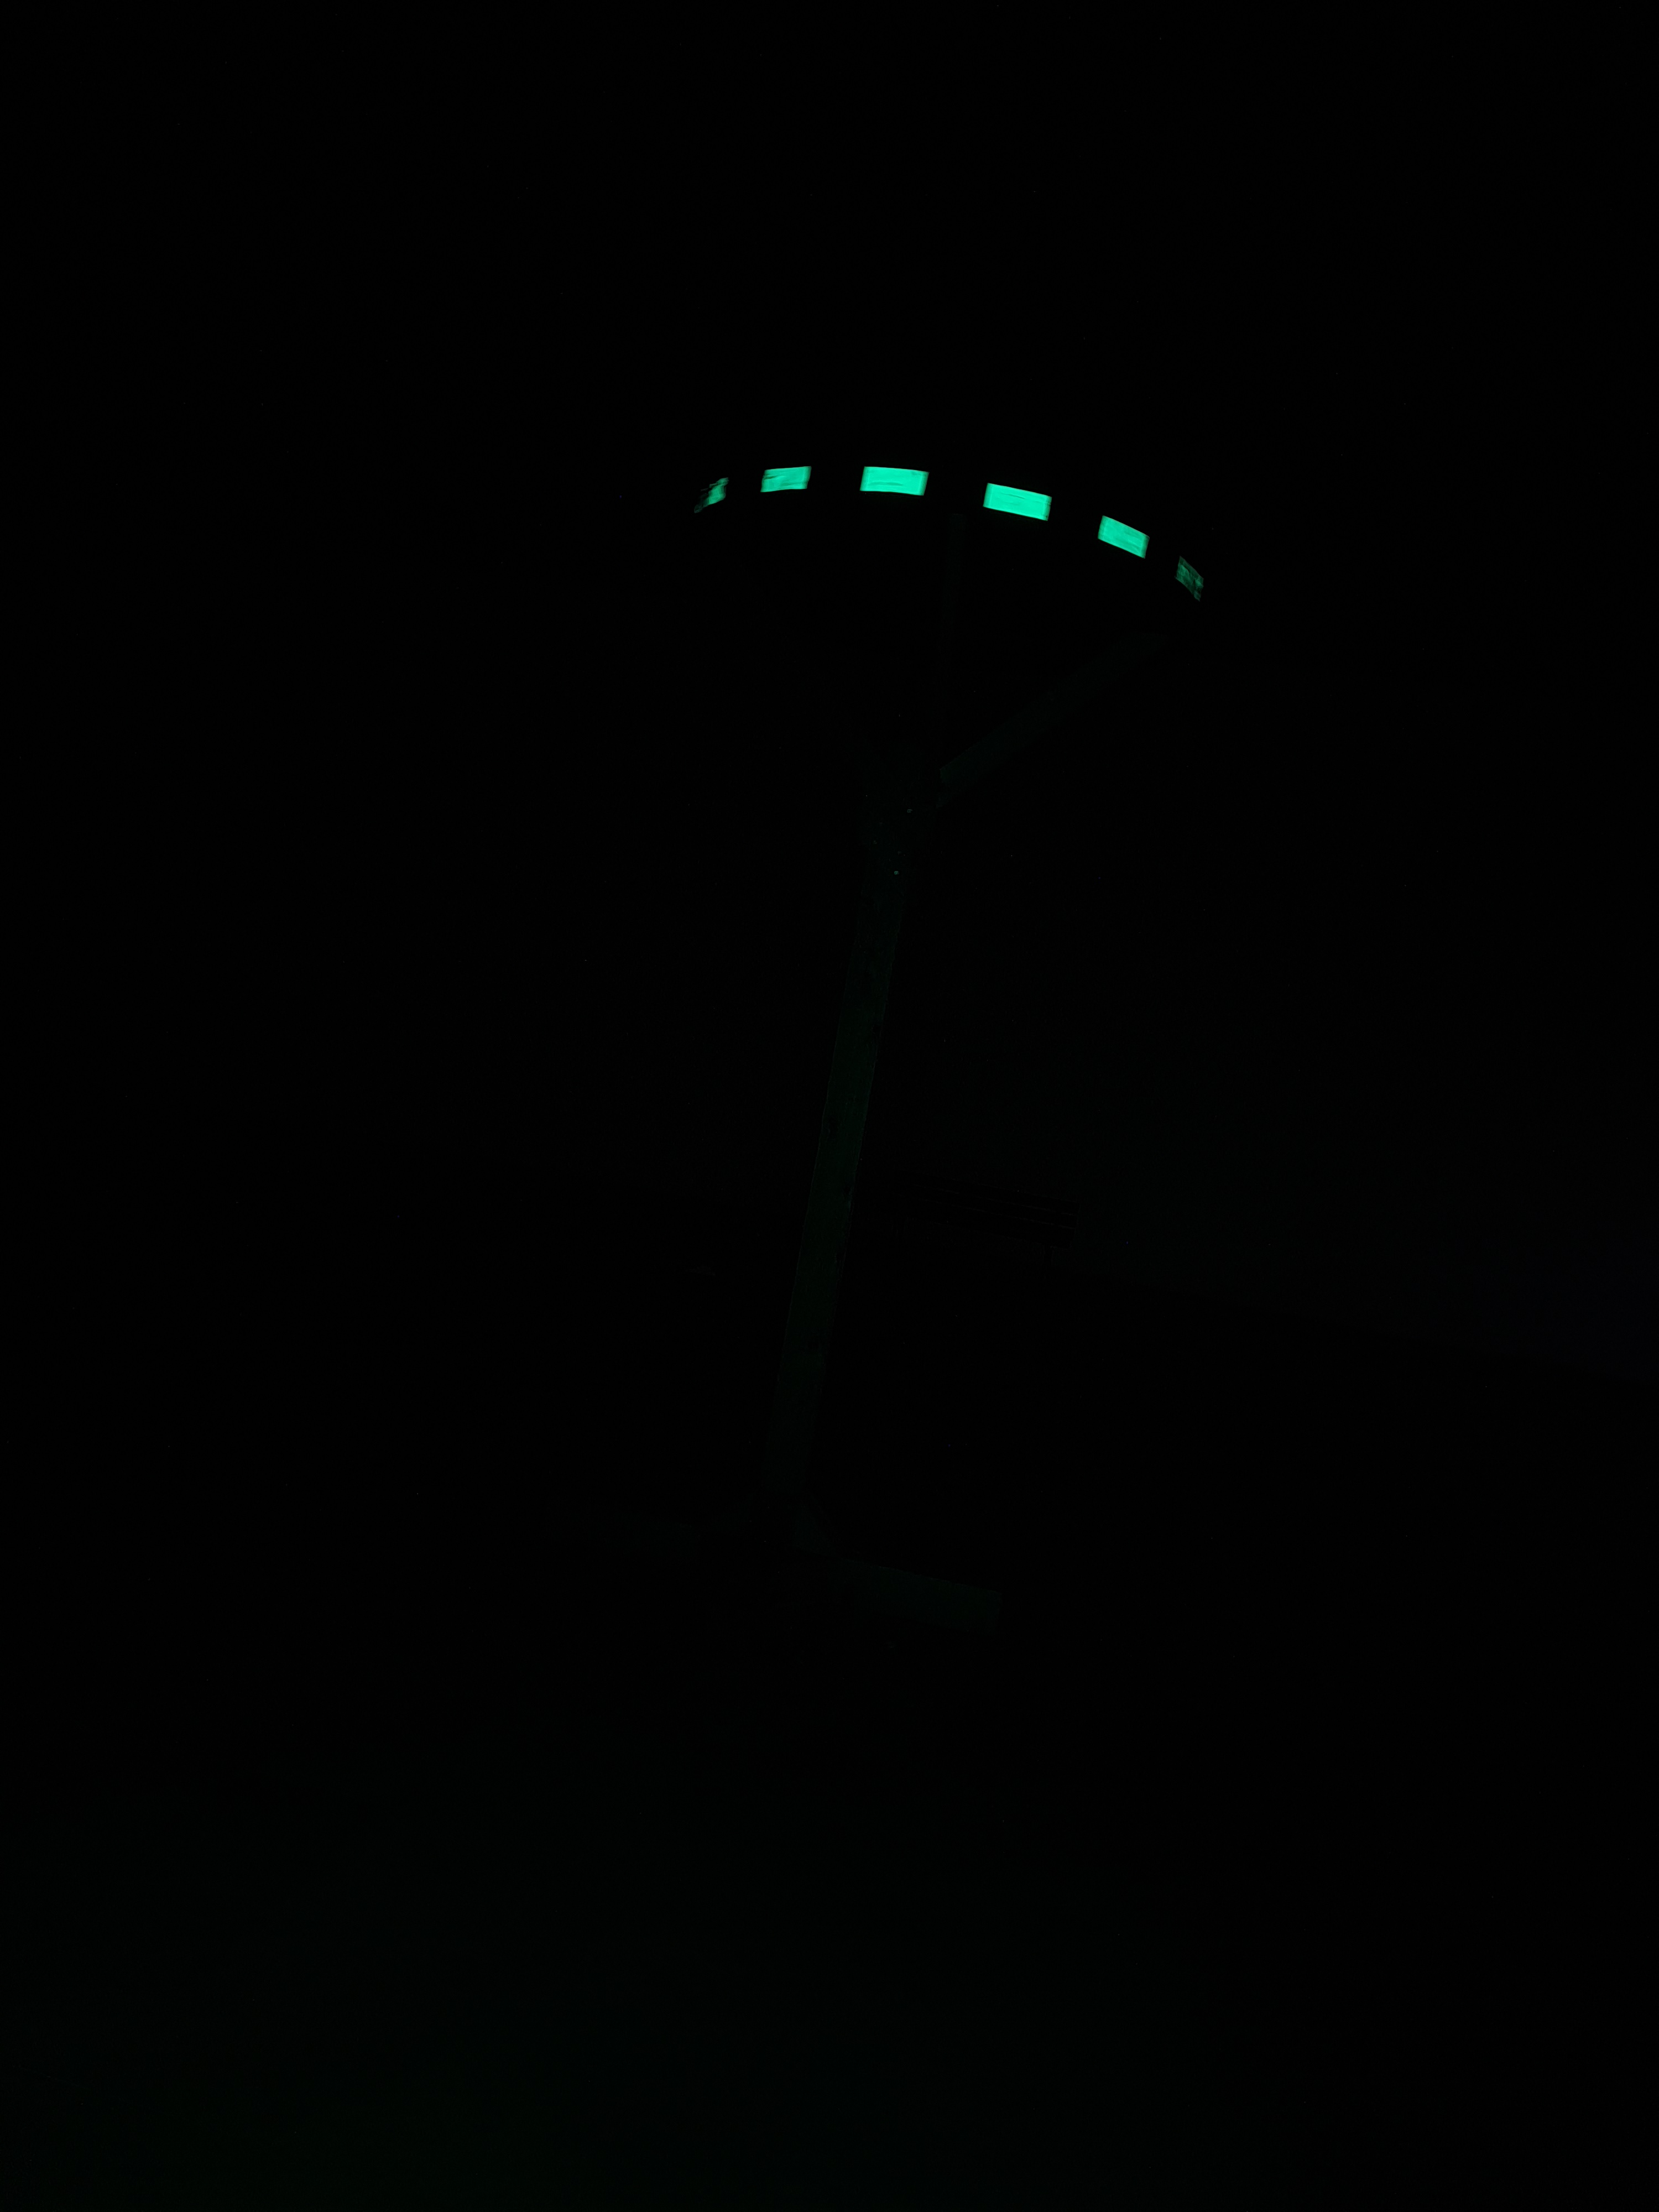hoop: (709, 460, 1209, 603)
